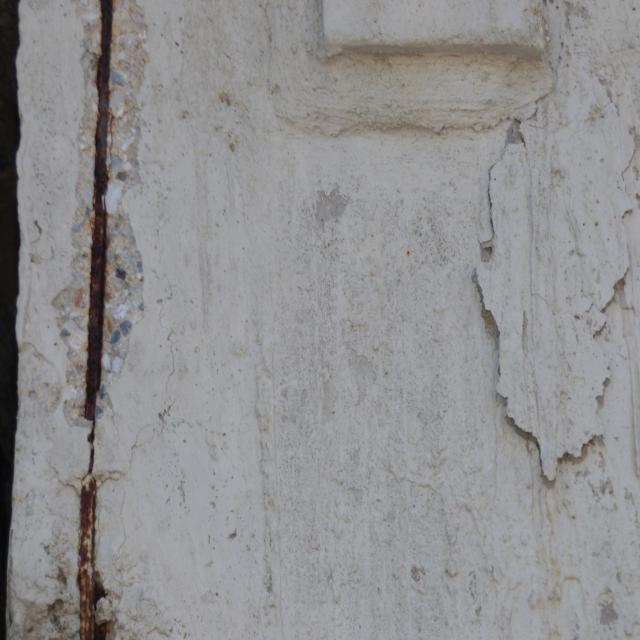corrosion: (50, 0, 138, 640)
